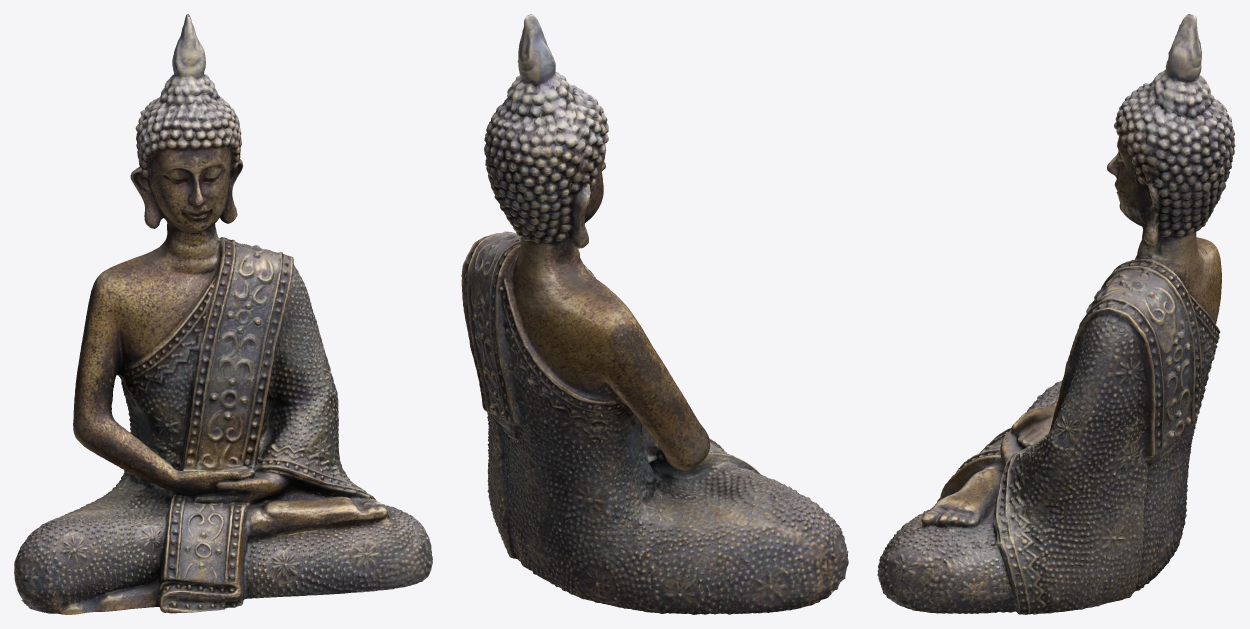
The model's file is buddha.glb.
The picture shows the model from 3 angles, left to right: view 1: azimuth 30°, elevation 25°; view 2: azimuth 150°, elevation 25°; view 3: azimuth 270°, elevation 25°; orthographic projection. The views are drawn at different scales.
Visible parts, largest first — view 1: Object_2; view 2: Object_2; view 3: Object_2.
Boxes of the visible parts, x1,y1,x2,y2 form: Object_2: (14,14,432,614); Object_2: (461,14,848,614); Object_2: (877,14,1235,614).
Size of the model in its own units: 70.84 by 101 by 58.36.
Materials: 1 (1 with a texture image).
